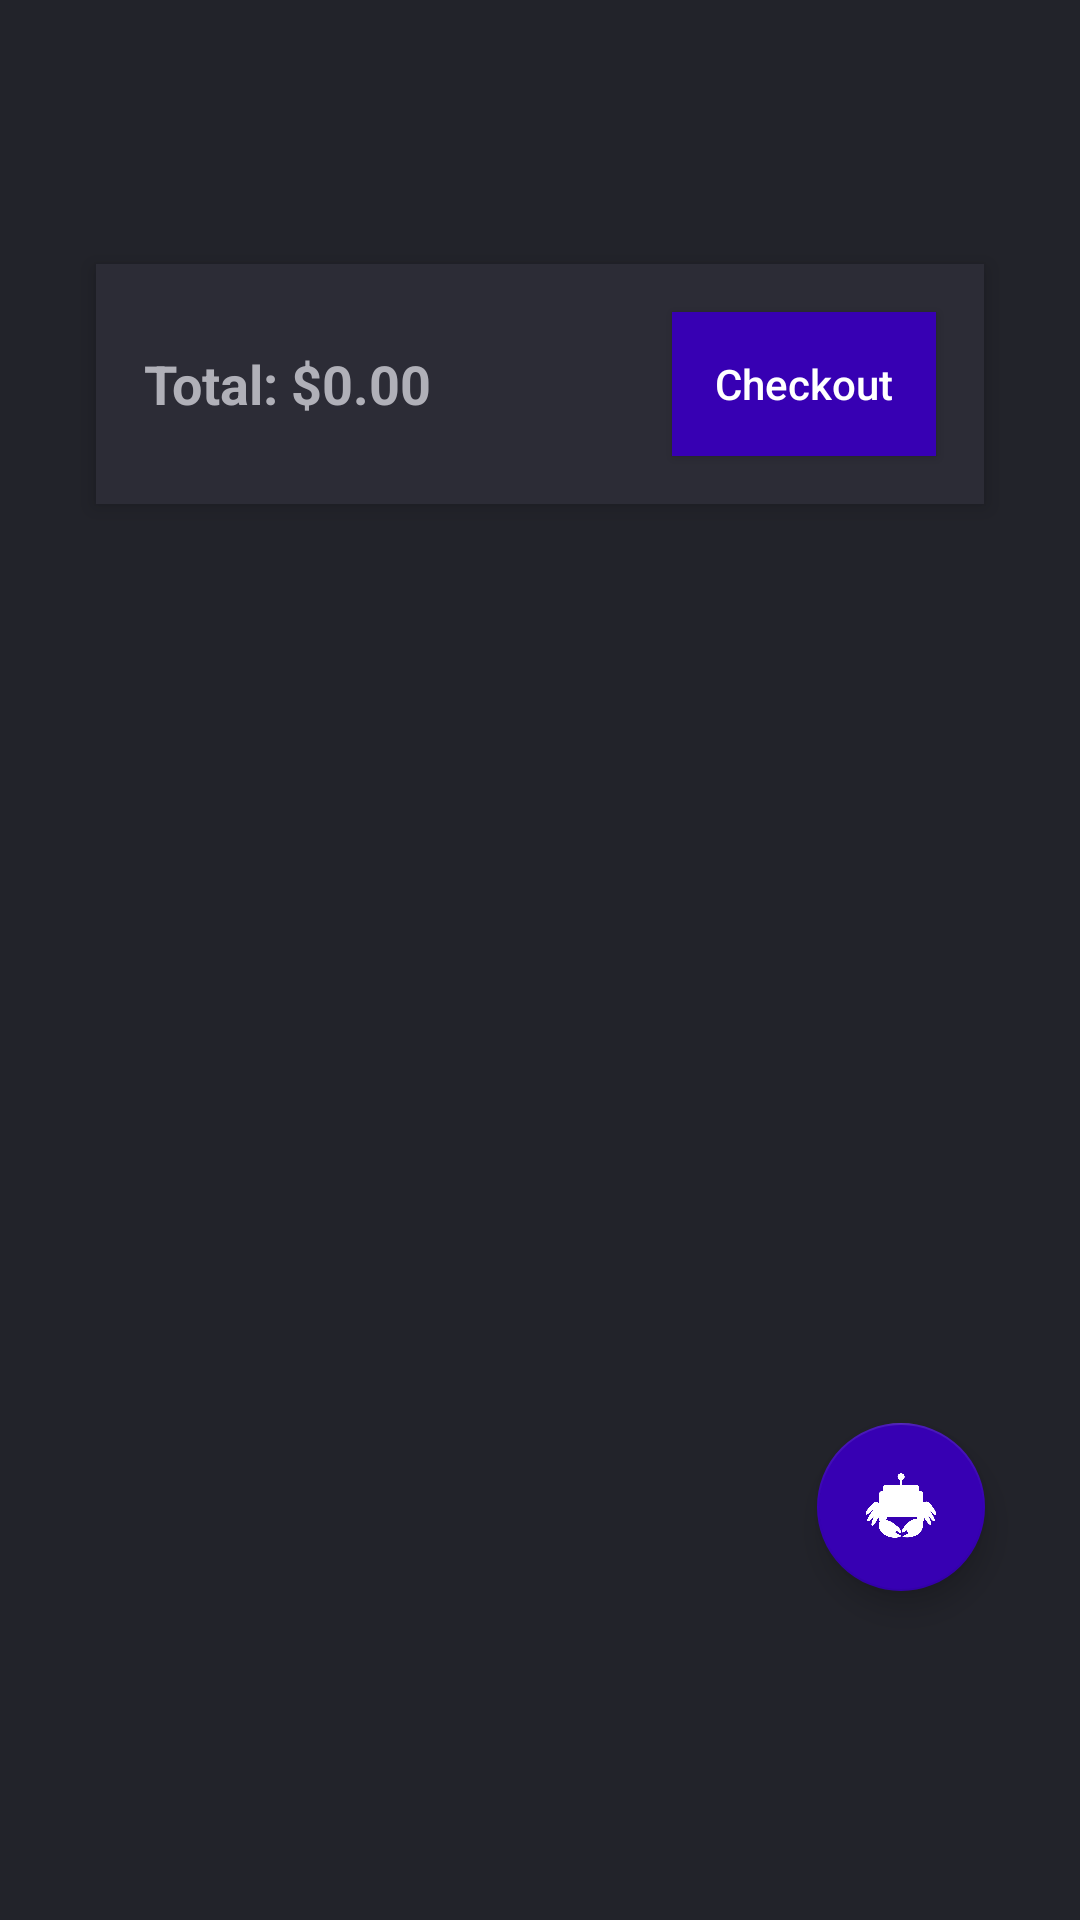

Point at icon controls on the screen. Image size 1080x1920, points as point (x, y).
Chat with Gemini AI: point (901, 1507)
